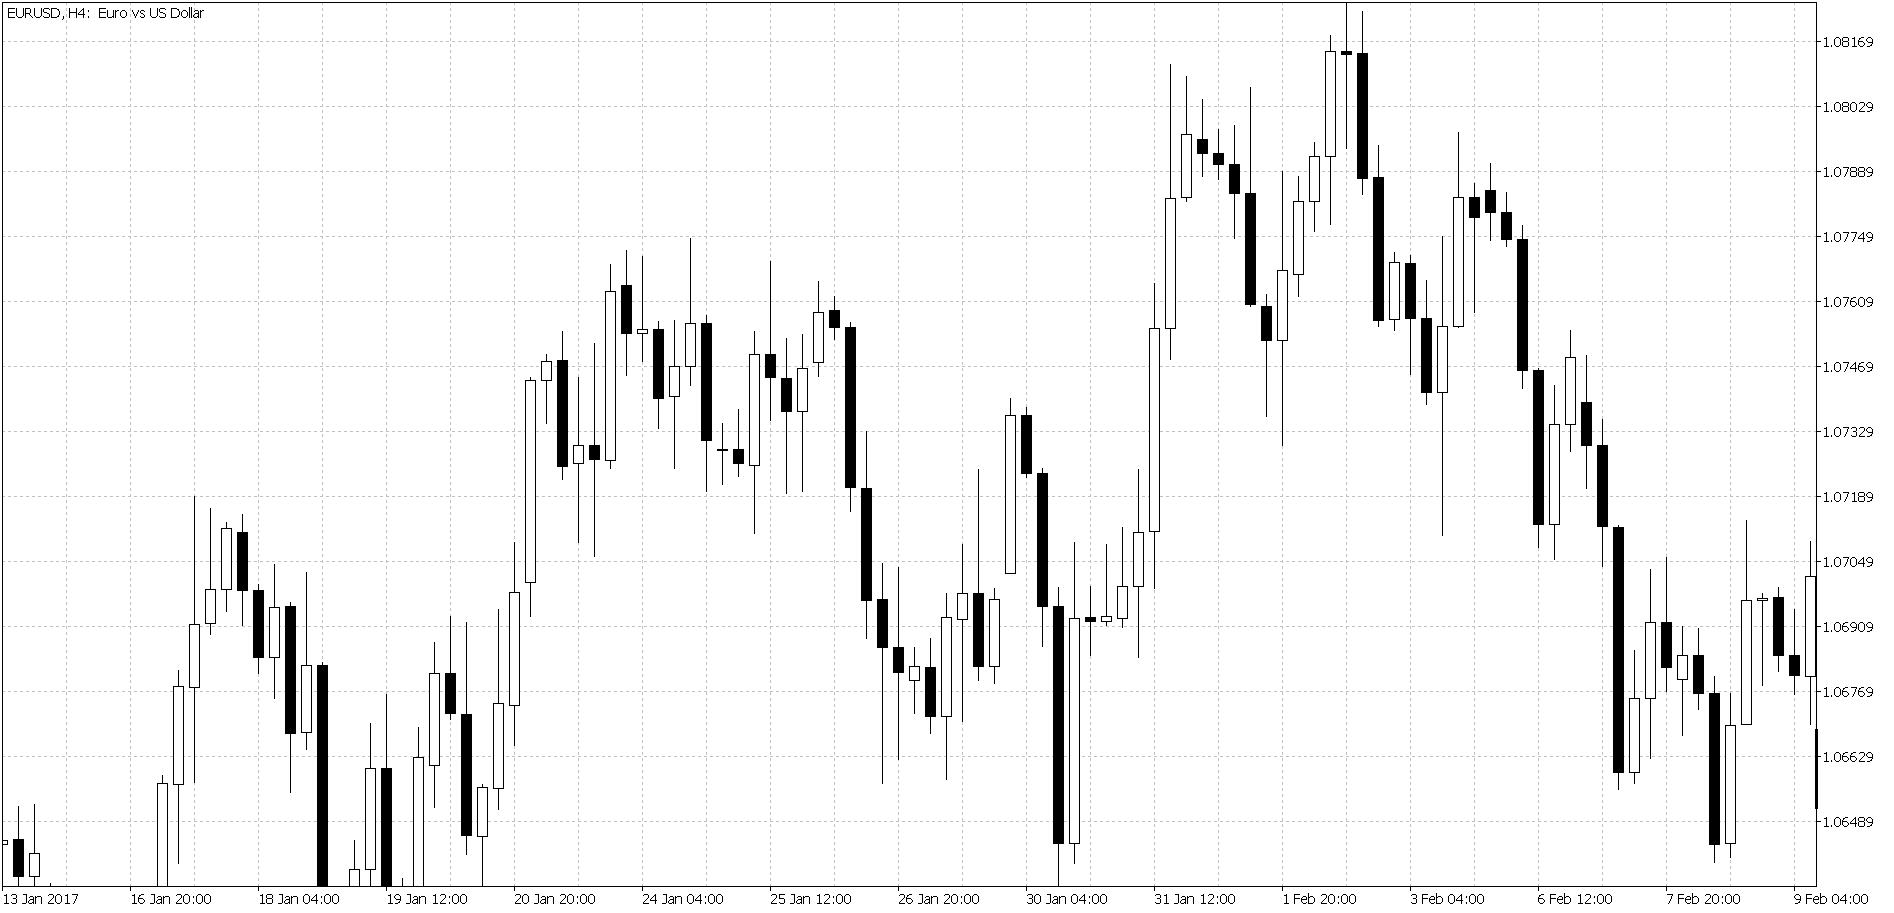headAndShoulders: (1129, 7, 1562, 365)
